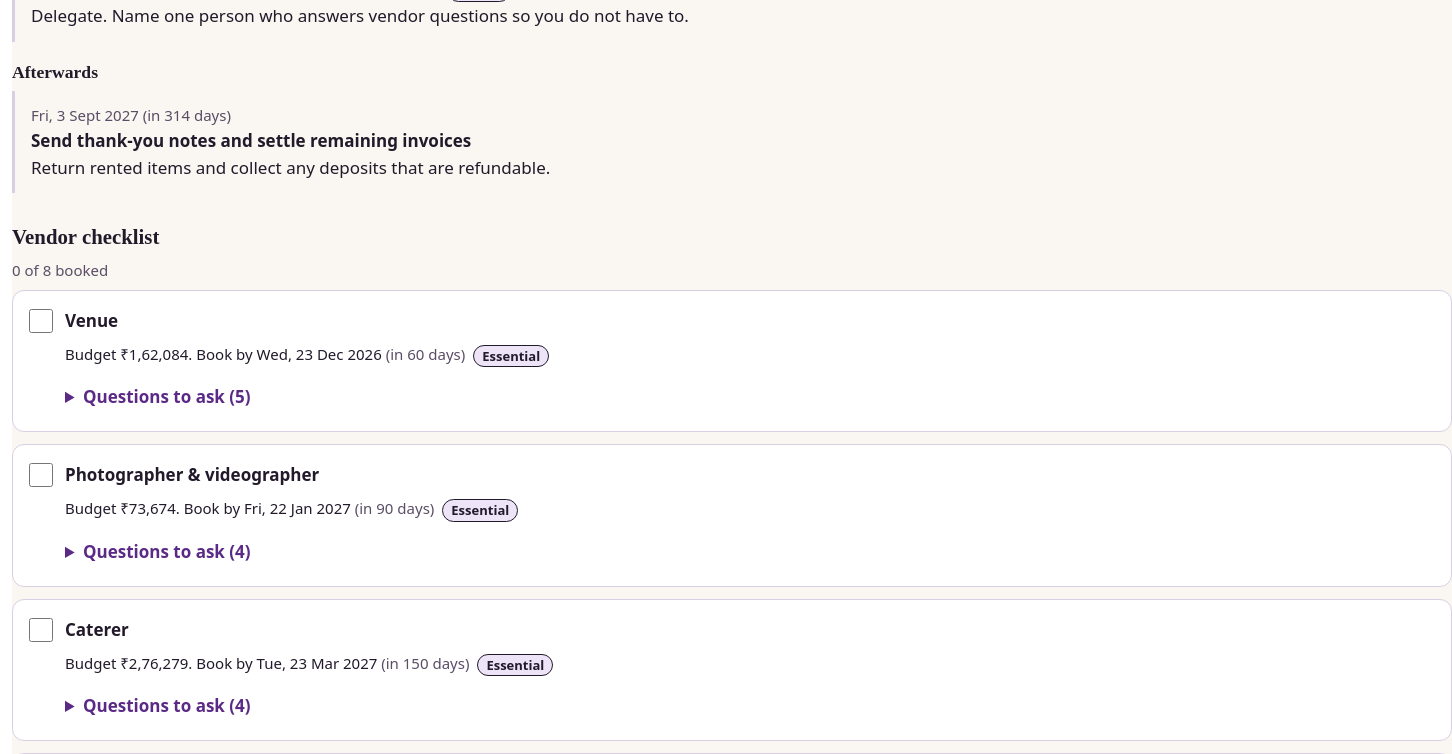
PlanResults › tailors vendor questions to the host’s context and tucks them into disclosures
This screenshot has width=1452, height=754.
(page scrolled)
Click the heading "Questions to ask (5)" at (167, 397), box [83,385,251,408]
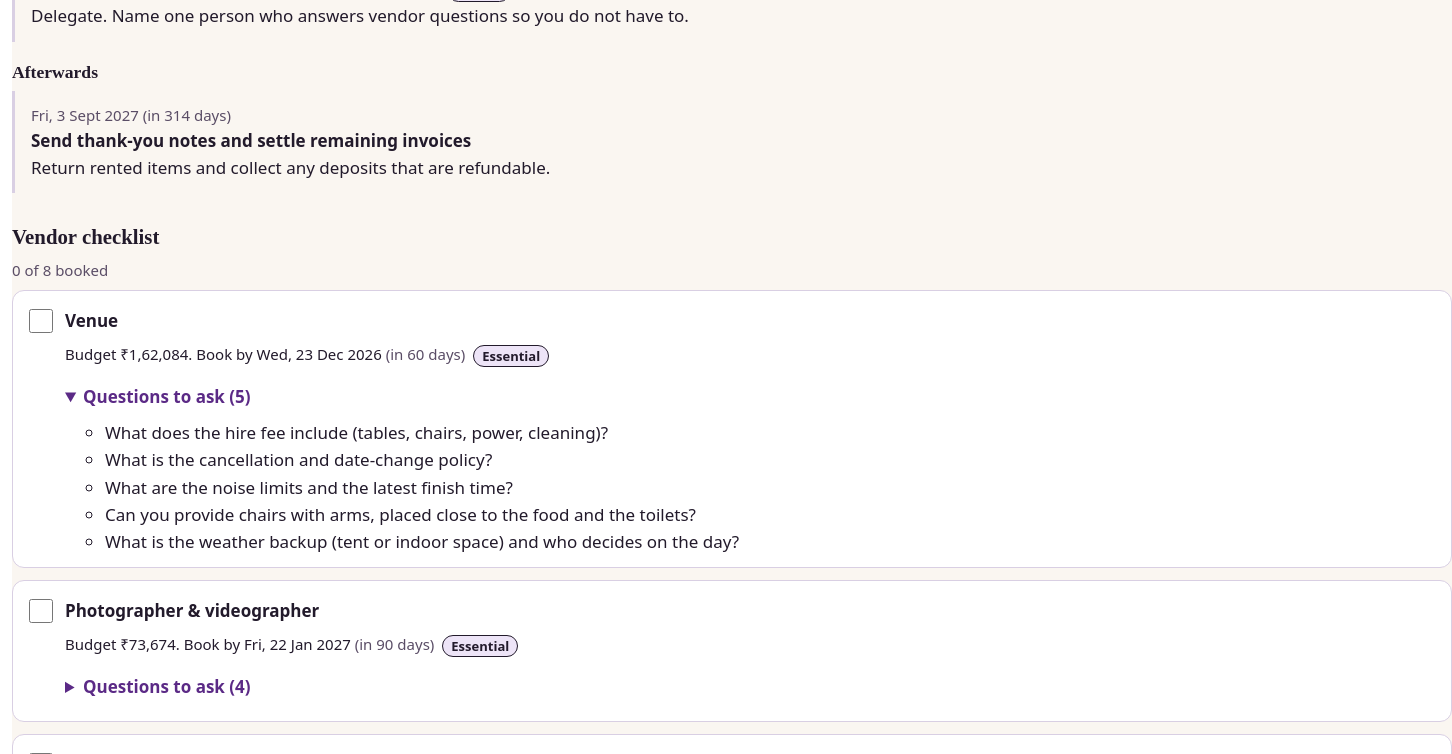
Now the list item "weather backup" is shown, box [105,530,739,553]
Now the list item "chairs with arms" is shown, box [105,503,696,526]
